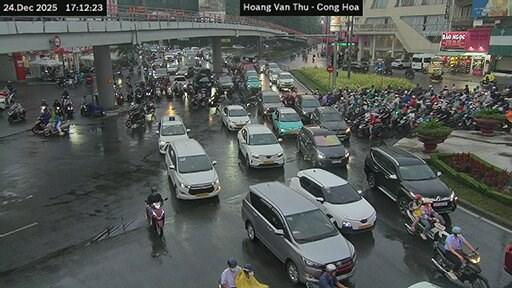motorbike: (457, 252, 489, 287), (431, 241, 451, 278), (144, 201, 162, 235), (403, 207, 423, 234), (425, 221, 448, 241), (124, 108, 144, 126), (7, 103, 25, 121), (31, 121, 57, 133), (80, 103, 105, 115), (0, 89, 15, 108), (31, 117, 44, 133), (42, 122, 57, 134), (480, 79, 496, 88), (64, 103, 73, 117), (60, 121, 70, 133), (115, 91, 124, 104), (60, 121, 69, 133), (429, 73, 441, 81), (405, 70, 412, 79), (163, 198, 166, 199)
